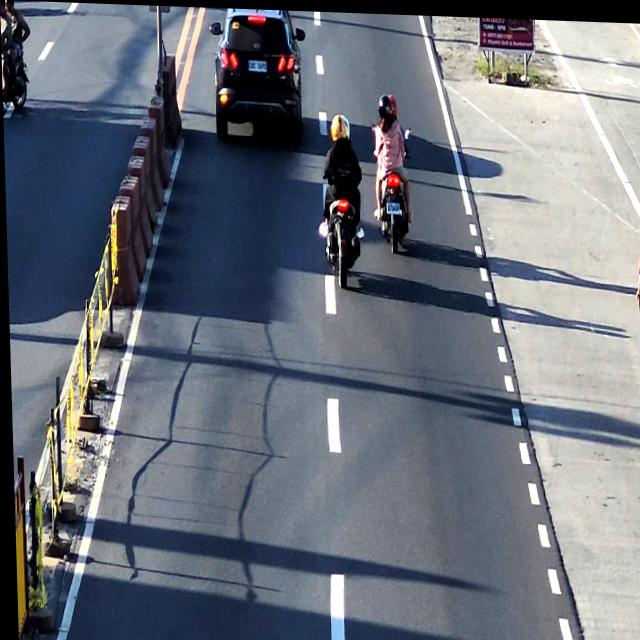Car: (209, 6, 305, 141)
License-Plate: (245, 56, 271, 72), (384, 197, 401, 209)
Motorcycle: (315, 111, 359, 287), (370, 88, 414, 247)
